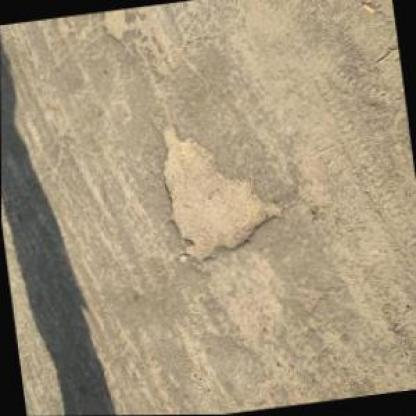pothole: (151, 108, 290, 272), (100, 8, 134, 44)
